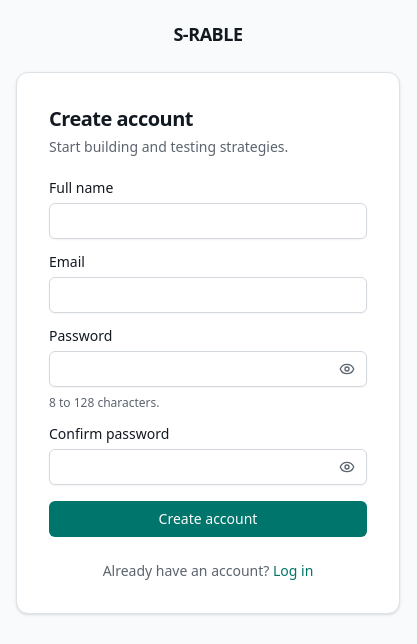
Test case: RegisterPage › puts backend 422 messages under the matching field
The width and height of the screenshot is (417, 644).
Type " Asha Rao " into the field labelled "Full name" at coordinates (208, 221), box [49,203,367,239]
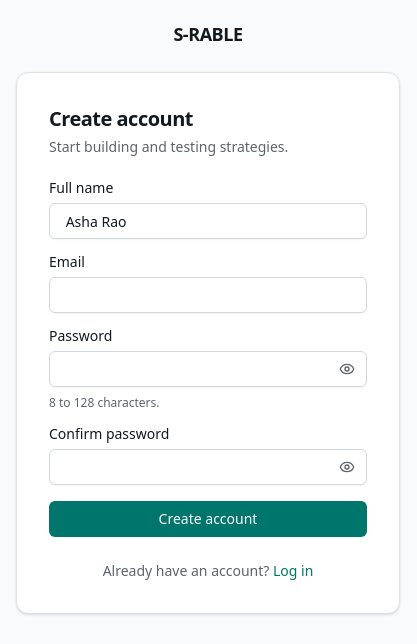
Type " asha@example.com " into the field labelled "Email" at coordinates (208, 295), box [49,277,367,313]
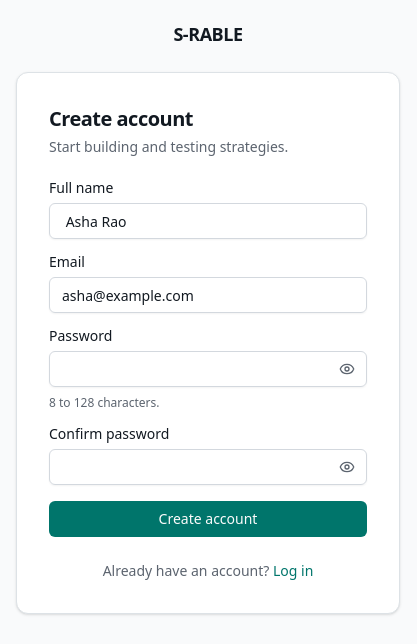
Type "password123" into the password field labelled "Password" at coordinates (208, 369), box [49,351,367,387]
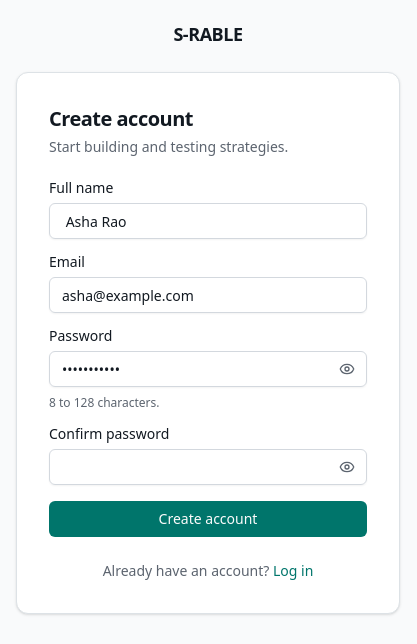
Type "password123" into the password field labelled "Confirm password" at coordinates (208, 467), box [49,449,367,485]
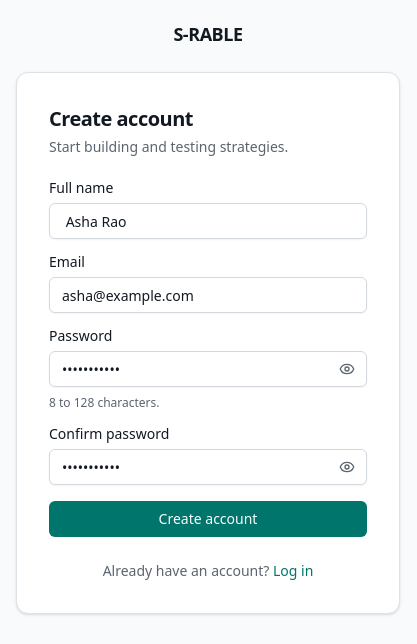
Click the button "Create account" at coordinates (208, 519), box [49,501,367,537]
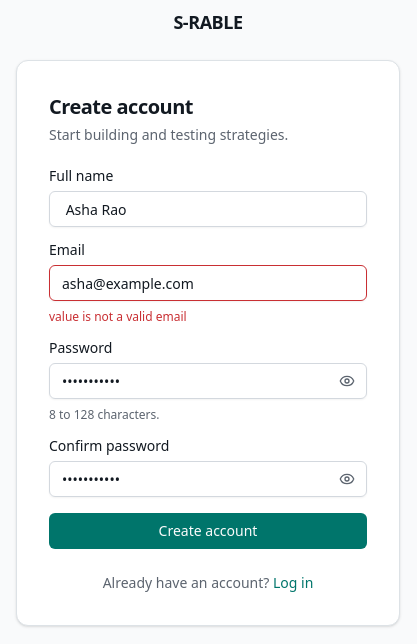
Result: the text "value is not a valid email" is shown at [49,308,187,325]
